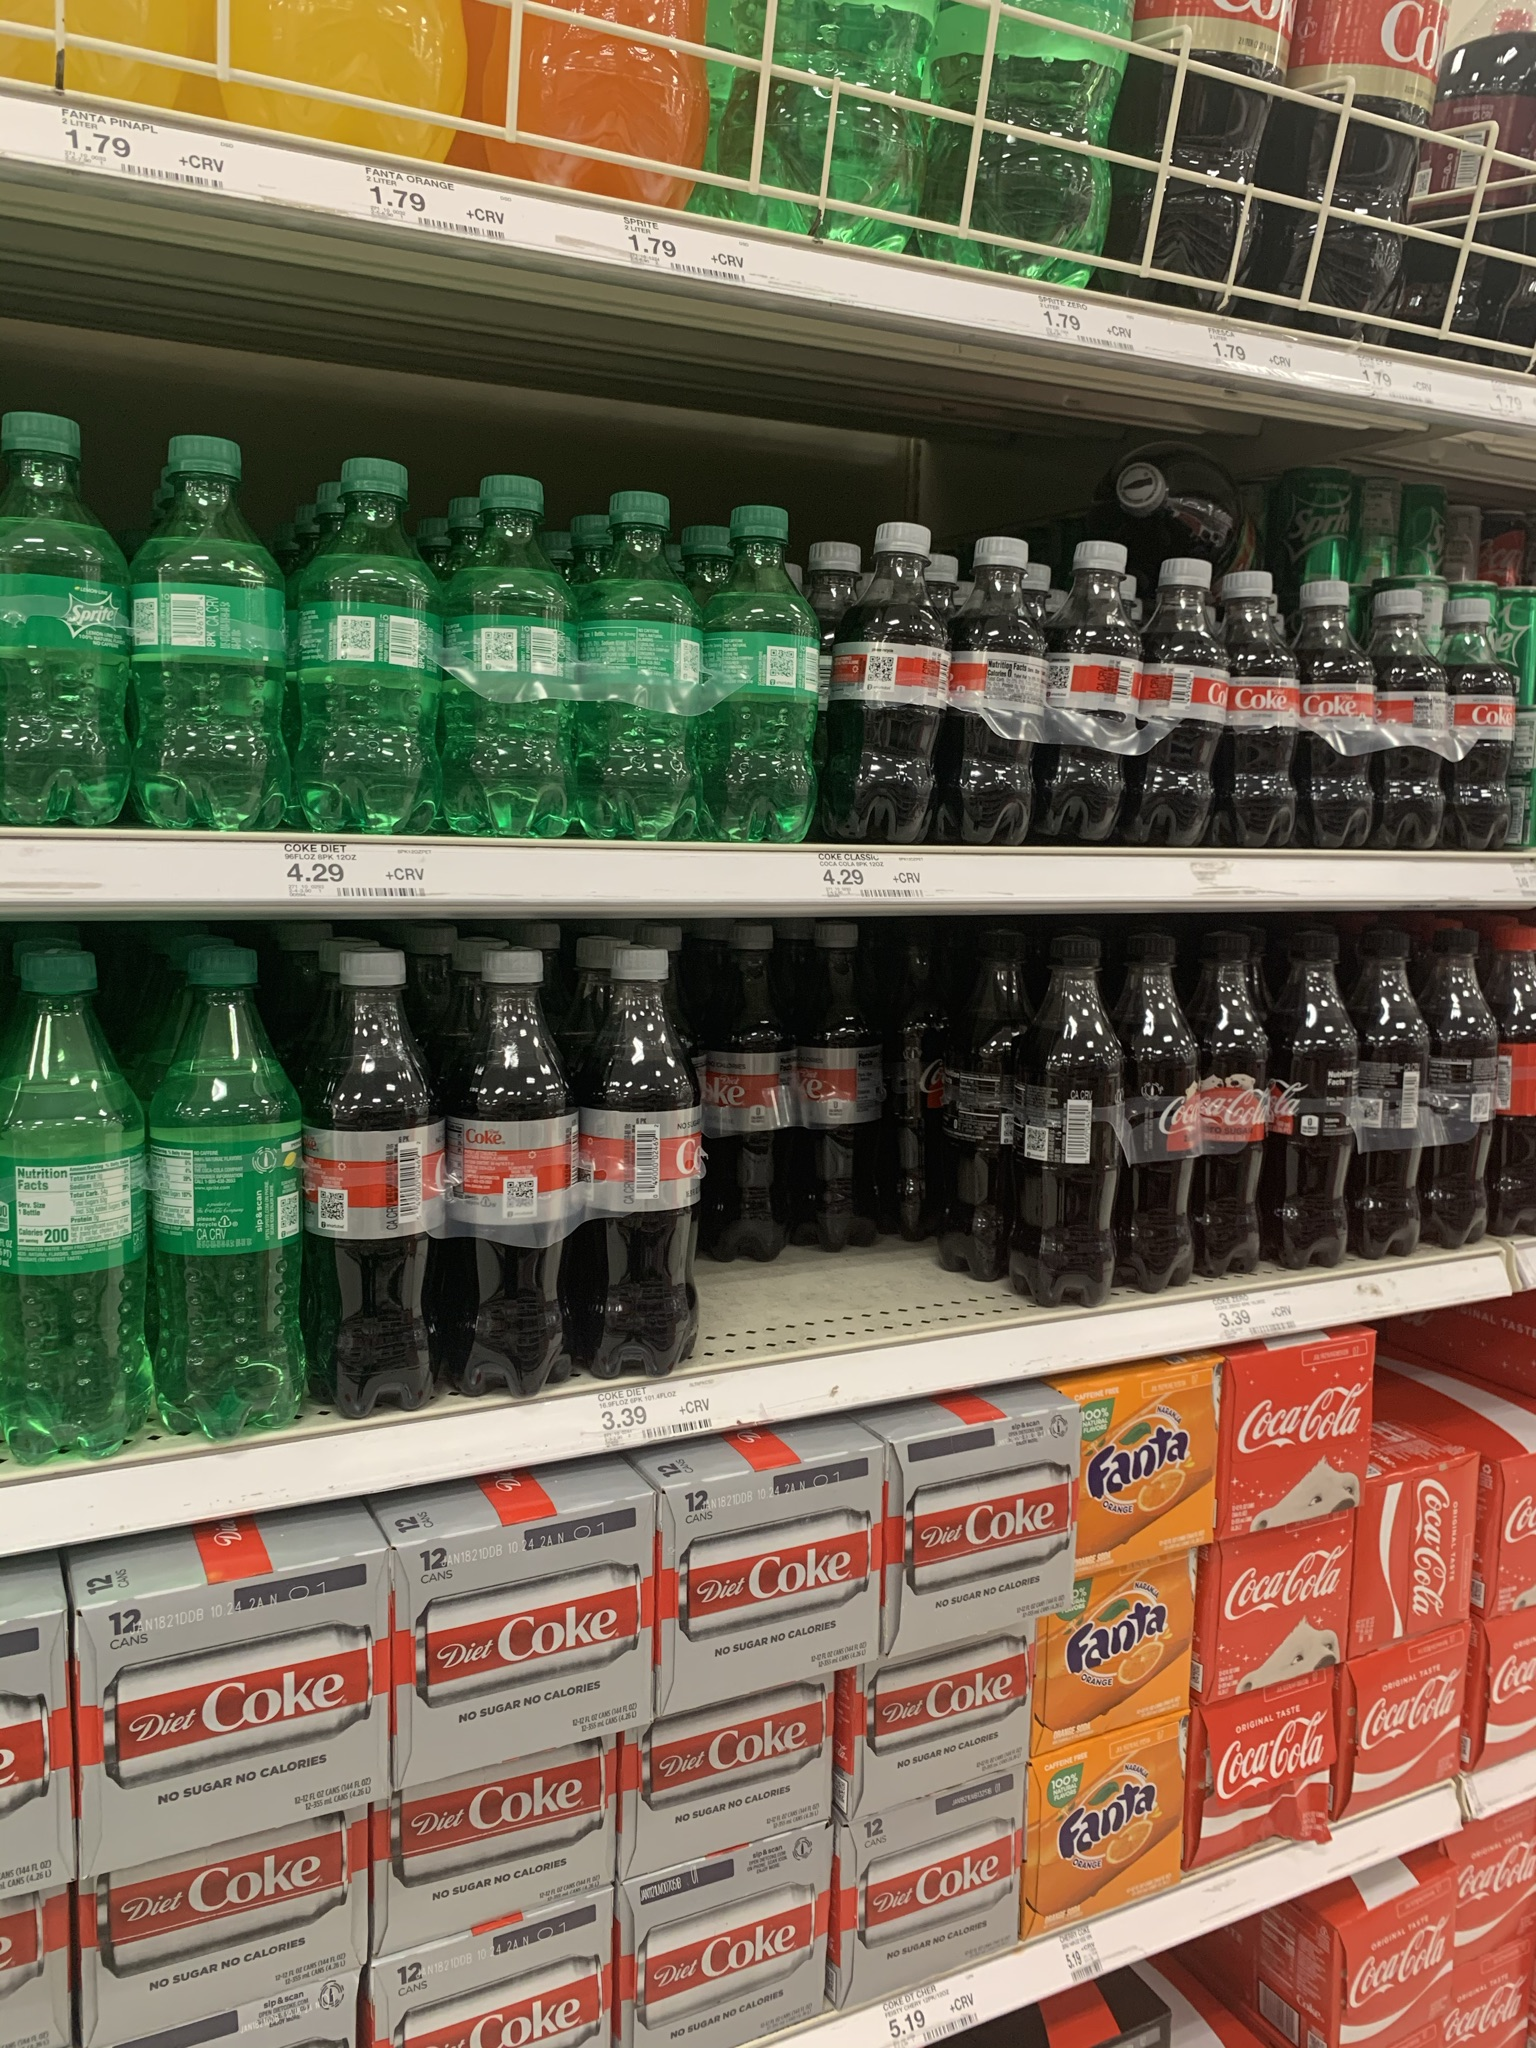Soda: (2, 943, 153, 1459), (163, 939, 305, 1434), (305, 934, 445, 1422), (127, 426, 287, 830), (452, 934, 586, 1405), (3, 395, 126, 830), (298, 452, 437, 832), (442, 471, 582, 832), (594, 940, 703, 1372), (591, 487, 712, 834), (1021, 935, 1118, 1314), (837, 522, 949, 847), (718, 495, 820, 834), (958, 532, 1058, 843), (1197, 932, 1281, 1271), (1281, 921, 1362, 1268), (718, 916, 797, 1264), (1120, 935, 1197, 1285), (1055, 539, 1144, 840), (1142, 556, 1233, 847), (800, 916, 878, 1248), (1292, 576, 1379, 851), (1428, 916, 1496, 1240), (1379, 579, 1454, 855), (1365, 914, 1425, 1256), (1447, 595, 1521, 851), (1242, 563, 1307, 842)
